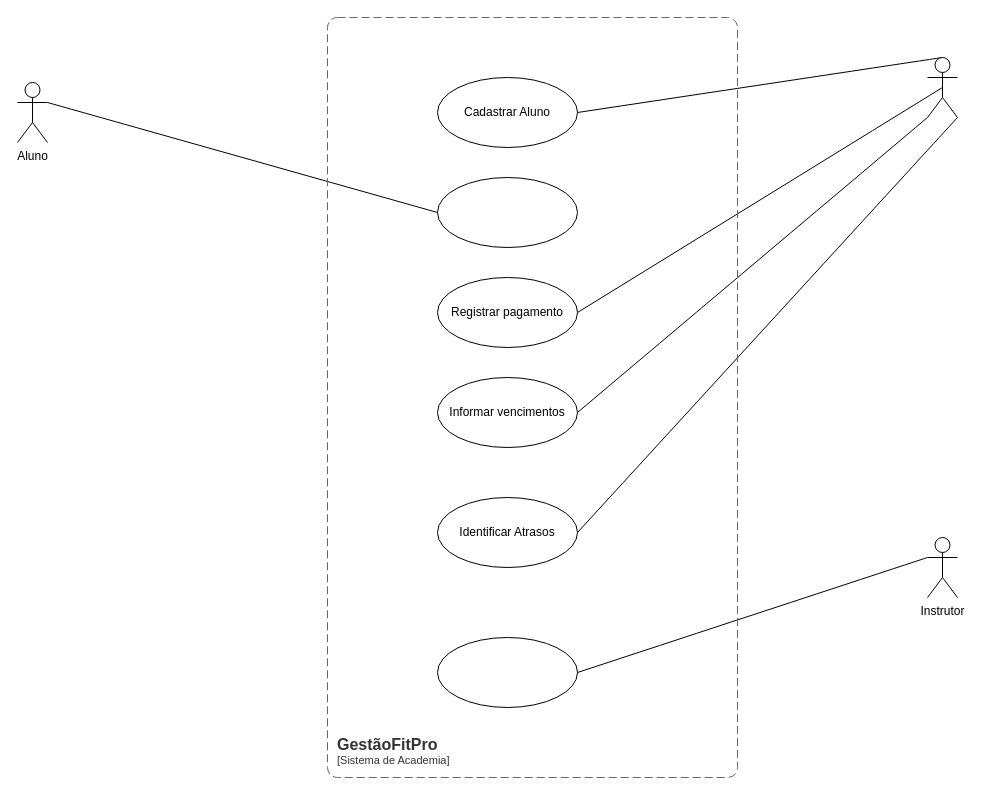
The diagram is 987 pixels wide and 795 high, and some of its shapes have lost their labels. The shapes that lost their labels are listed below. From the top down, each one's centre as x and y in pixels, then its label:
At [942,87]: "Atendente".
At [507,212]: "Consultar Treino".
At [507,672]: "Registrar Treino".
